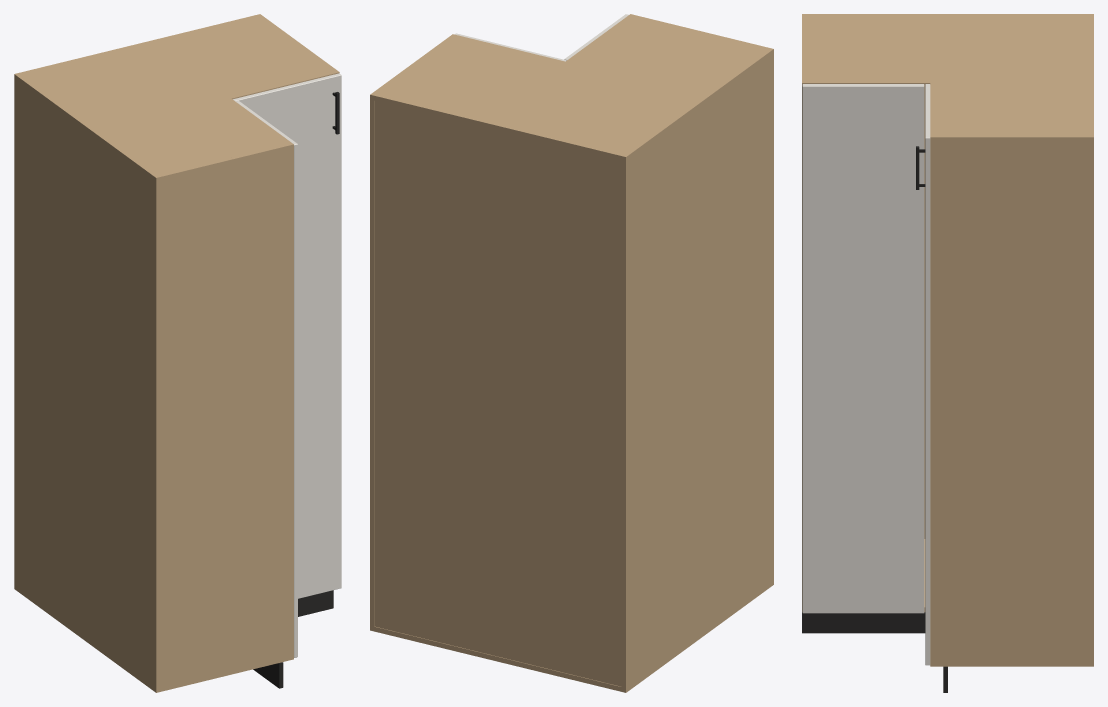
Rendered from 15_szafa_narozna_100.glb.
3 views of the same model, side by side, from view 1: azimuth 30°, elevation 25°; view 2: azimuth 150°, elevation 25°; view 3: azimuth 270°, elevation 25° (orthographic). The views are drawn at different scales.
Visible parts, largest first — view 1: Korpus, Front_drzwi_1, Front_drzwi_2, Cokol; view 2: Korpus; view 3: Korpus, Front_drzwi_2, Front_drzwi_1, Cokol.
Part boxes in pixels (left/top/right/bottom): Korpus: left=14, top=14, right=339, bottom=692; Front_drzwi_1: left=233, top=73, right=341, bottom=598; Front_drzwi_2: left=236, top=101, right=297, bottom=657; Cokol: left=253, top=590, right=333, bottom=688; Korpus: left=370, top=14, right=773, bottom=692; Korpus: left=802, top=14, right=1093, bottom=666; Front_drzwi_2: left=802, top=84, right=924, bottom=613; Front_drzwi_1: left=925, top=84, right=930, bottom=665; Cokol: left=802, top=612, right=947, bottom=692.
Bounding box in the file's own units: 1 × 2.1 × 1.
